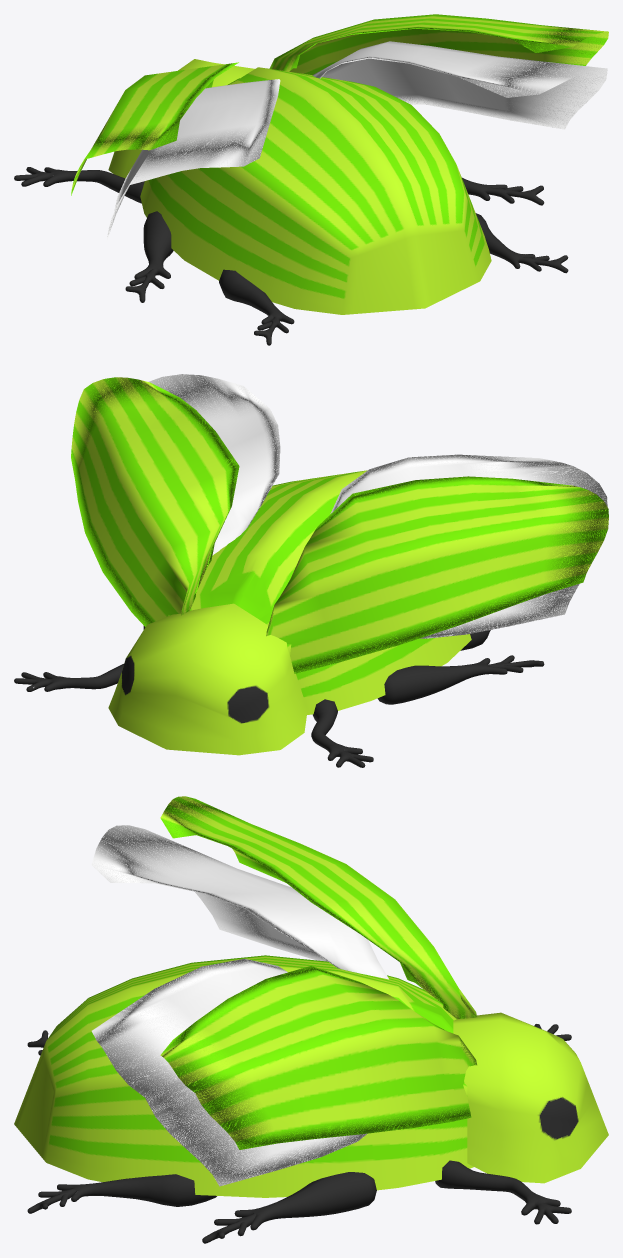
The model's file is Bugs-1.glb.
3 views of the same model, one above another, from view 1: azimuth 30°, elevation 25°; view 2: azimuth 150°, elevation 25°; view 3: azimuth 270°, elevation 25° (orthographic). The views are drawn at different scales.
Parts seen in each view (by area): view 1: Bug, wings.001; view 2: Bug, wings.001; view 3: Bug, wings.001.
Part boxes in pixels (x1,y1,x2,y2): Bug: (14, 14, 608, 345); wings.001: (107, 41, 607, 239); Bug: (14, 377, 608, 767); wings.001: (148, 374, 607, 638); Bug: (14, 796, 608, 1243); wings.001: (91, 825, 388, 1186).
Size of the model in its own units: 0.6339 by 0.2194 by 0.5373.
Materials: 1 (1 with a texture image).
